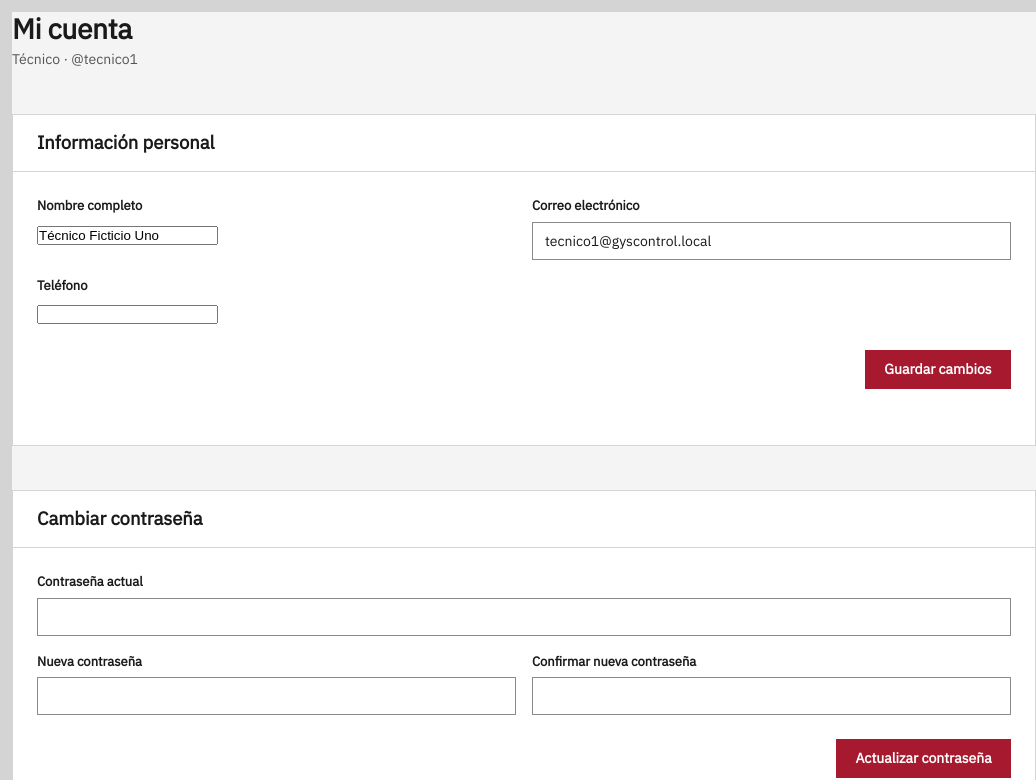
Test: PerfilPage: cambiar contraseña › guarda los tokens nuevos que devuelve el backend
Expected: the field showing "Técnico Ficticio Uno" below "Nombre completo" is shown, [37, 226, 218, 245]
Type "ClaveVieja-2026" into the 1st password field at (524, 617), box [37, 598, 1011, 636]
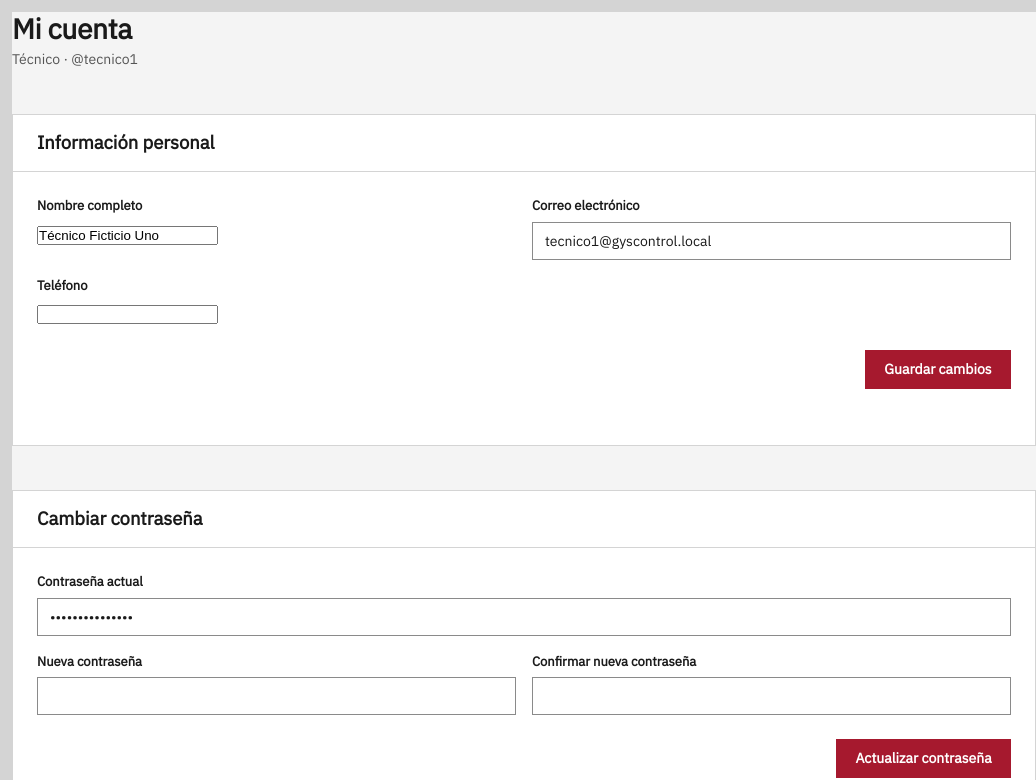
Type "Control-Seguro-2026" into the 2nd password field at (276, 696), box [37, 677, 516, 715]
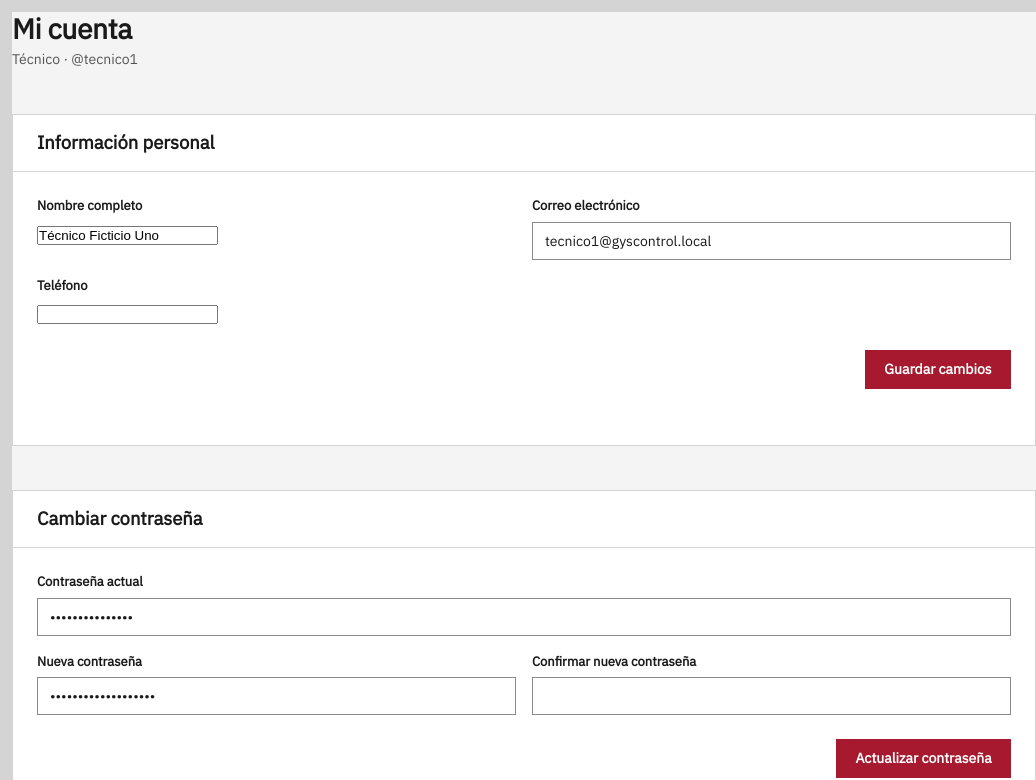
Type "Control-Seguro-2026" into the password field below "Confirmar nueva contraseña" at (772, 696), box [532, 677, 1011, 715]
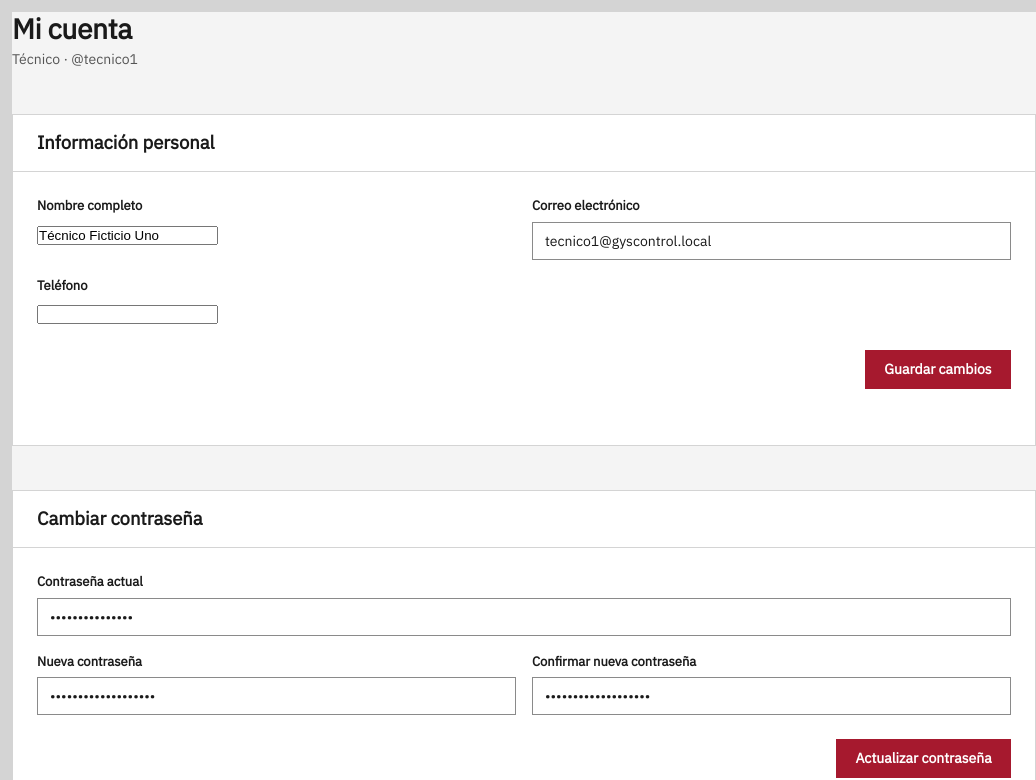
Submit the form that starts with "Contraseña actual", box [37, 572, 1011, 778]
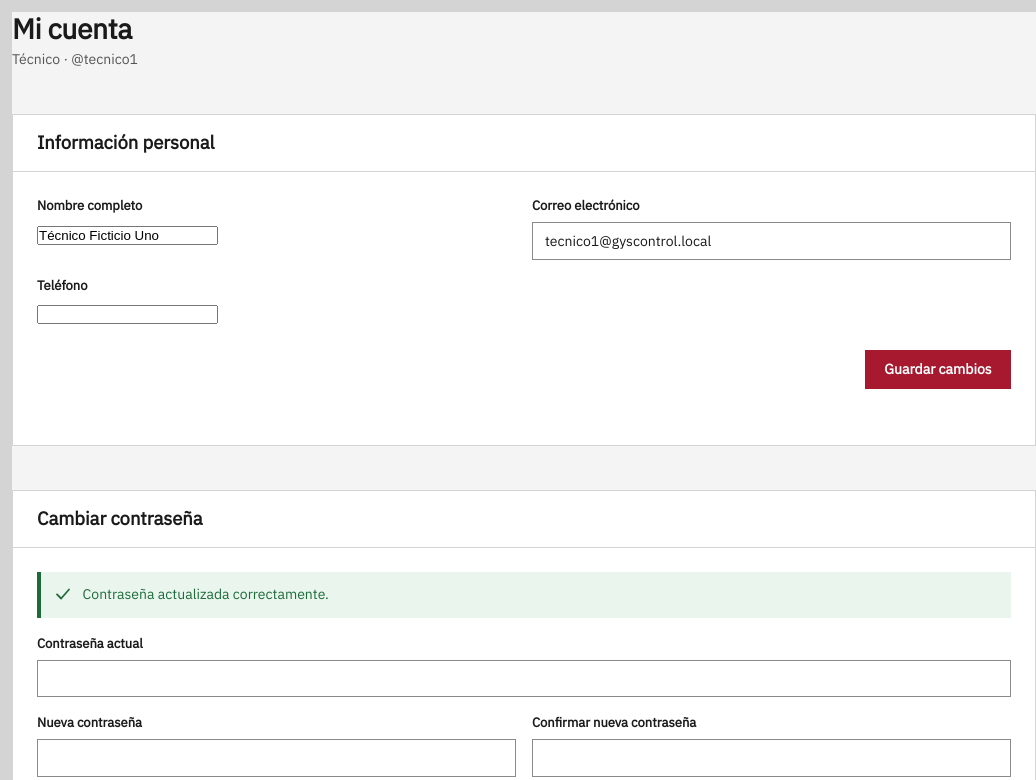
Result: the text "Contraseña actualizada correctamente." is shown at [37, 572, 1011, 618]
